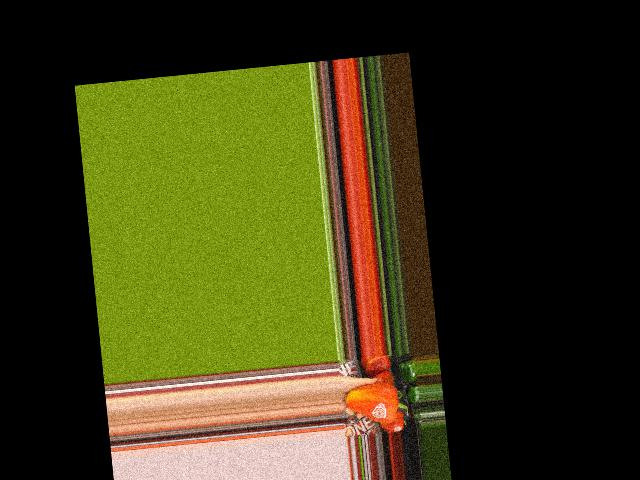bell_pepper: (344, 376, 410, 428)
